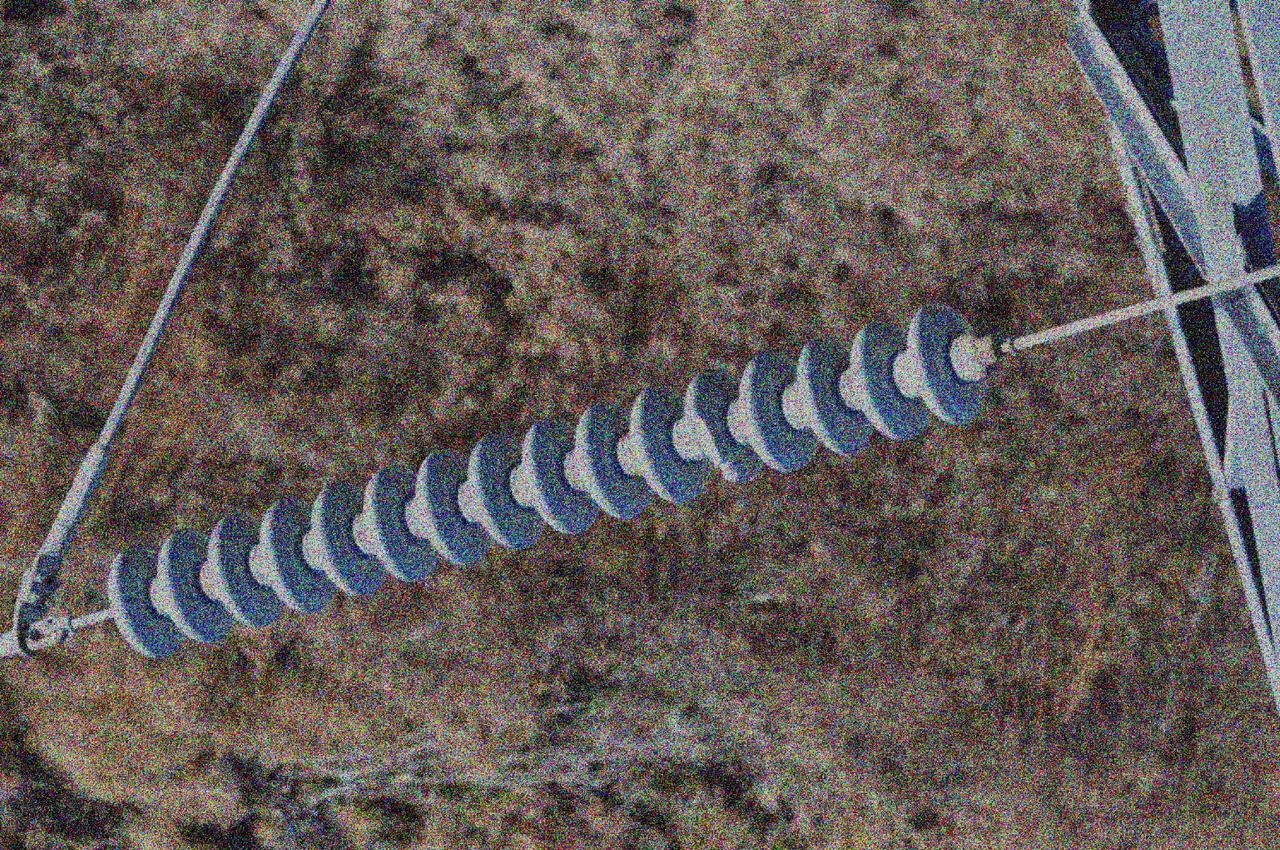Broken: (672, 365, 765, 483)
No issues: (904, 305, 987, 429), (256, 492, 339, 616), (519, 413, 602, 536), (793, 333, 876, 456), (415, 444, 498, 567), (310, 475, 393, 598), (206, 507, 289, 630), (740, 348, 822, 472), (853, 318, 935, 442), (469, 427, 551, 551), (571, 398, 653, 521), (362, 460, 444, 583), (157, 523, 239, 646), (108, 538, 190, 661), (629, 382, 683, 506)
String: (103, 298, 1002, 671)
